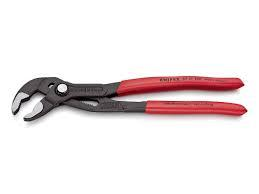pliers: (9, 75, 248, 121)
